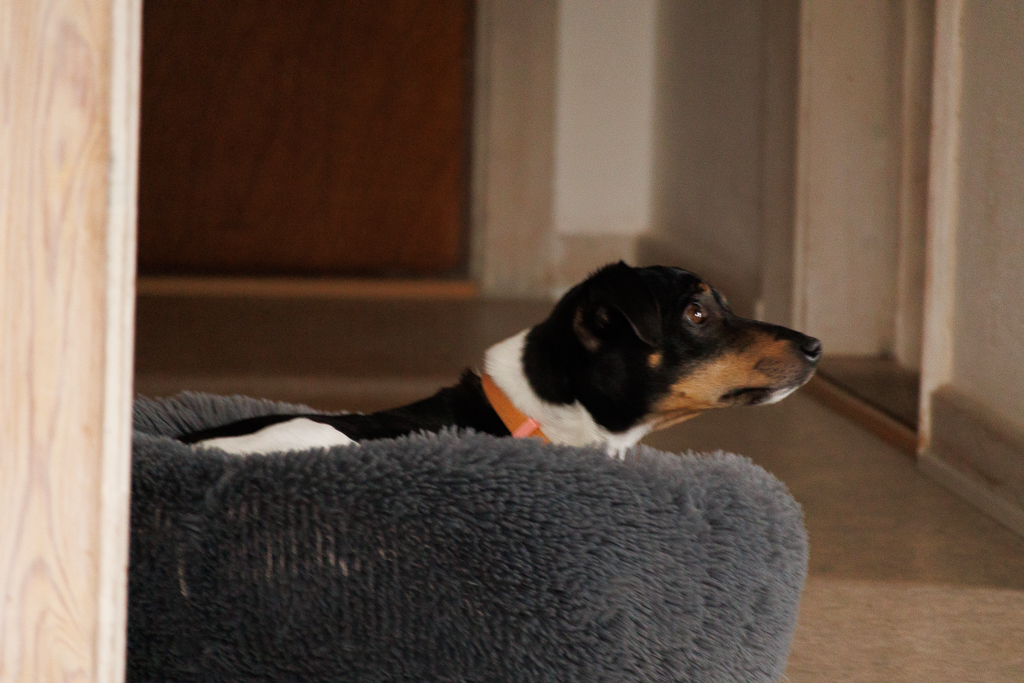Dog: (150, 249, 834, 488)
